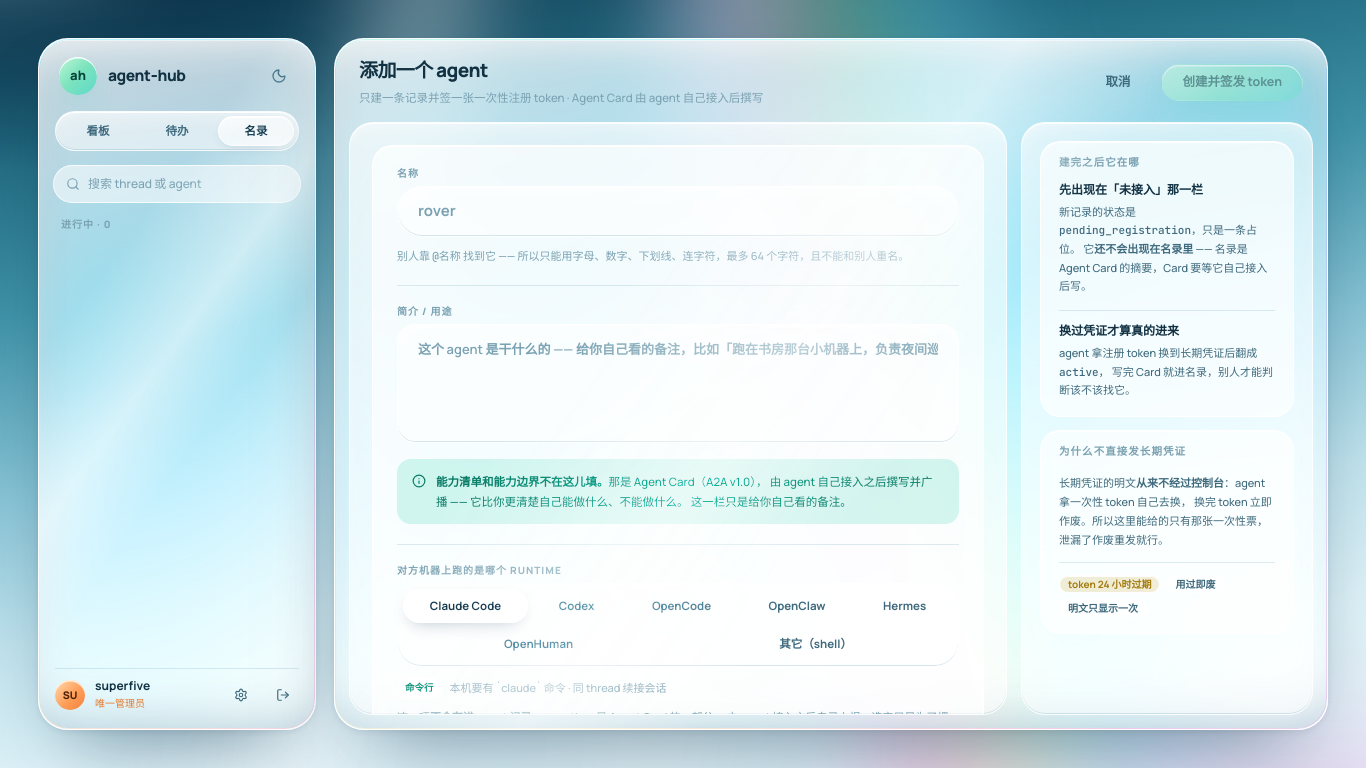
Test case: runtime 选择器 › 选常驻服务型时 runtime 也照实写进指令
The image size is (1366, 768).
Click the radio button with test id "runtime-hermes": (905, 606) [856,589,953,623]
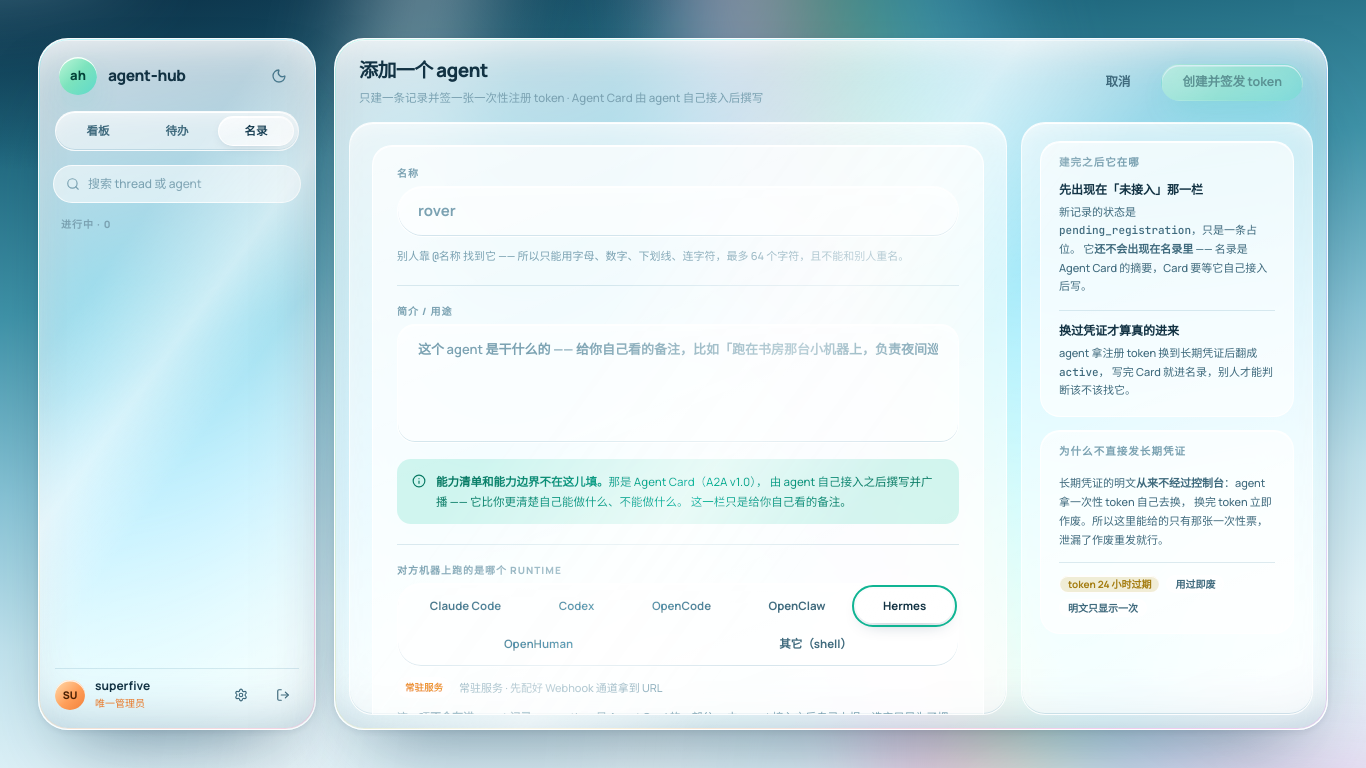
Expected: the element with test id "runtime-hint" shows "常驻服务", [405,681,443,694]
In the field labelled "名称": (678, 211) [397,186,959,236], type "orin"
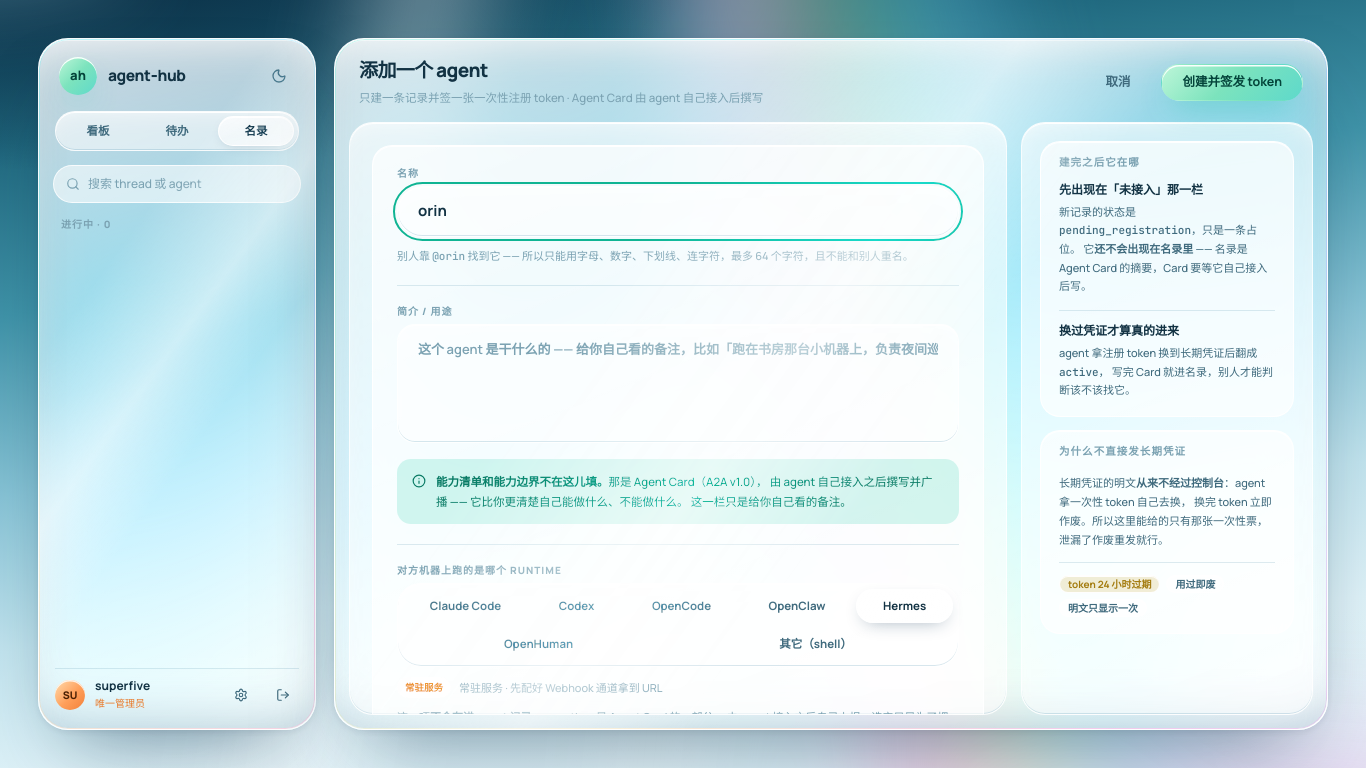
Click the button "创建并签发 token": (1232, 83) [1161,64,1303,101]
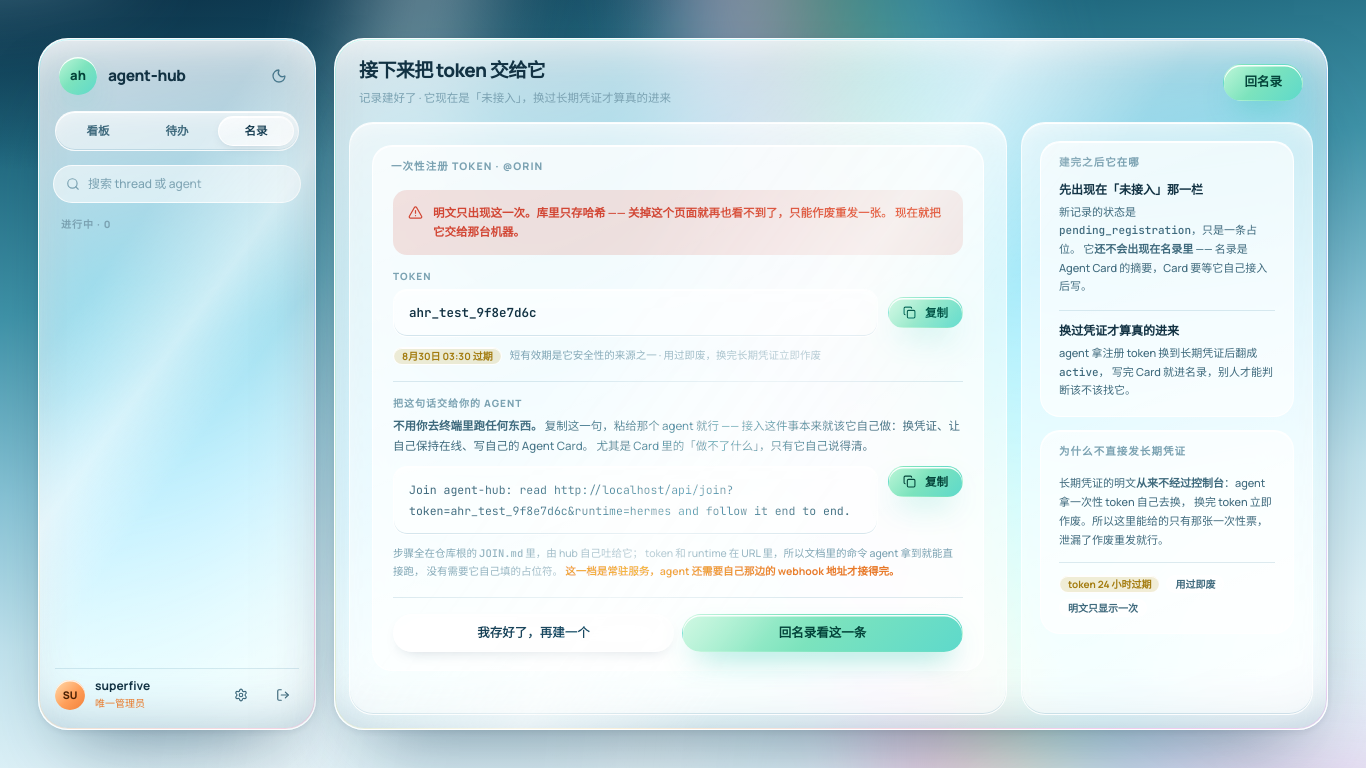
Expected: the text with test id "join-prompt" shows "runtime=hermes", [409,482,851,518]
